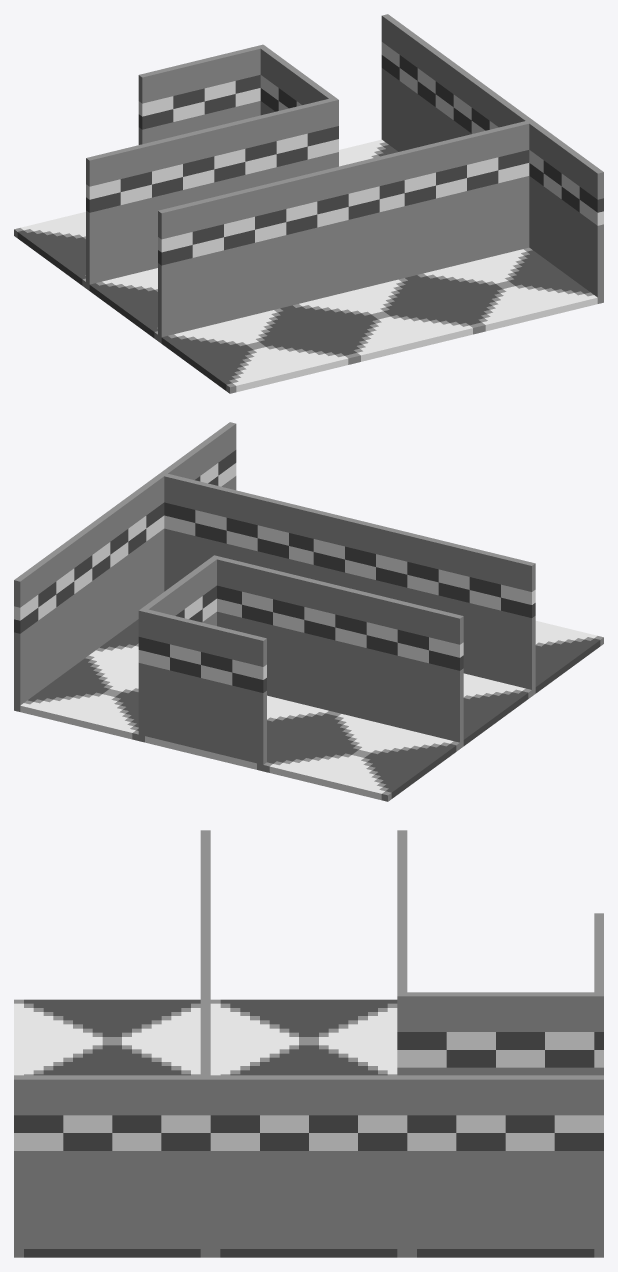
The model's file is level_maze-21.obj.
The picture shows the model from 3 angles, top to bottom: view 1: azimuth 30°, elevation 25°; view 2: azimuth 150°, elevation 25°; view 3: azimuth 270°, elevation 25°; orthographic projection. The views are drawn at different scales.
Visible parts, largest first — view 1: level_maze-21; view 2: level_maze-21; view 3: level_maze-21.
Part boxes in pixels (box(x1,y1,x2,y2)): level_maze-21: box(14, 14, 603, 393); level_maze-21: box(14, 422, 603, 801); level_maze-21: box(14, 830, 603, 1257).
Bounding box in the file's own units: 60 × 20 × 60.
Materials: 1 (1 with a texture image).
